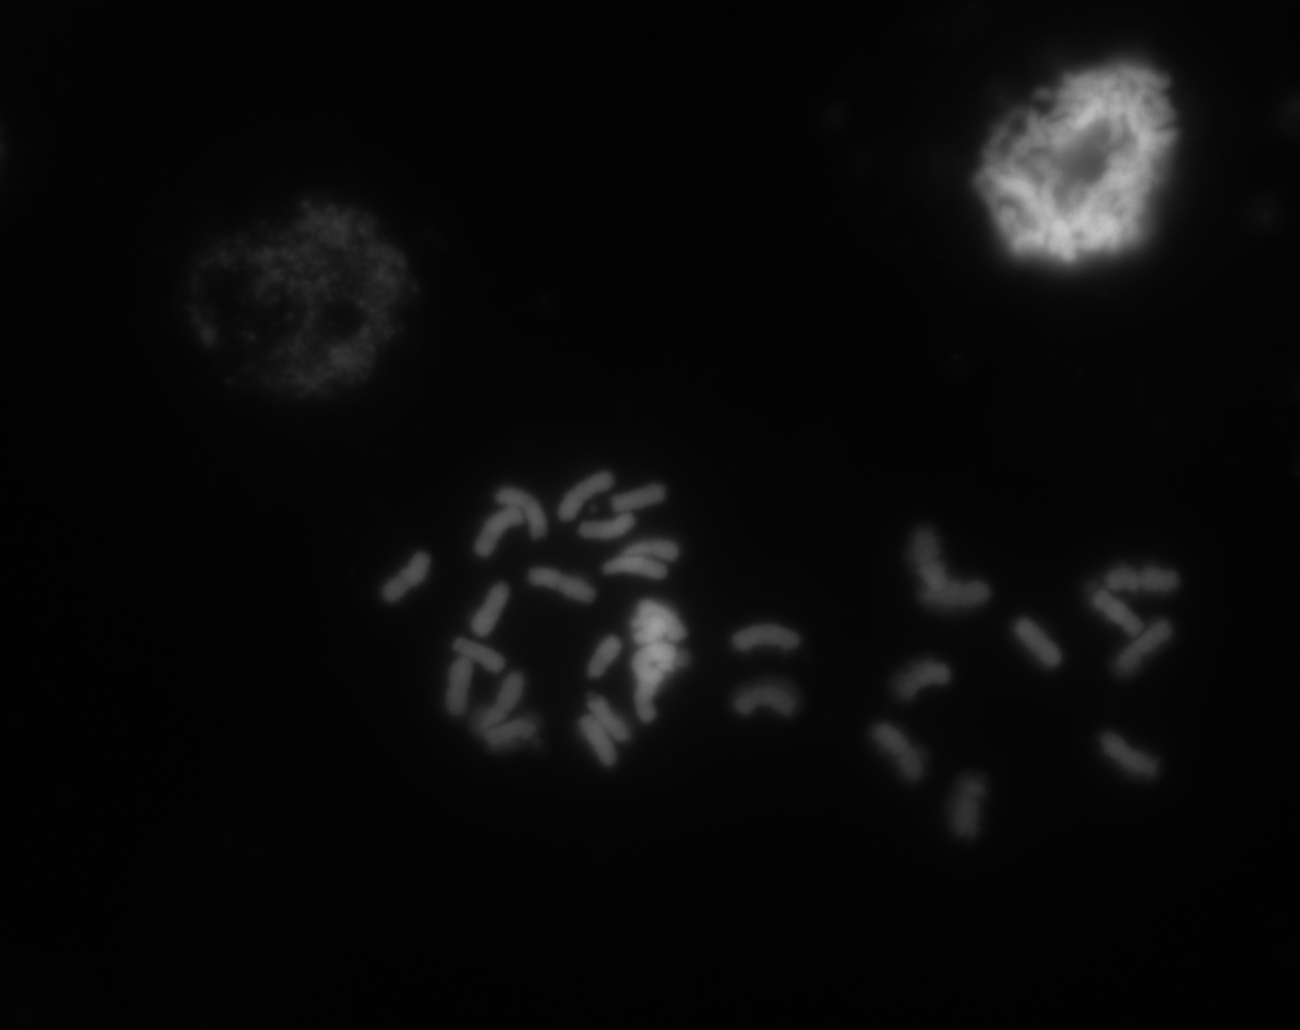Chromosomes: (274, 430, 1035, 788)
Others: (112, 138, 459, 446), (906, 9, 1243, 316)
